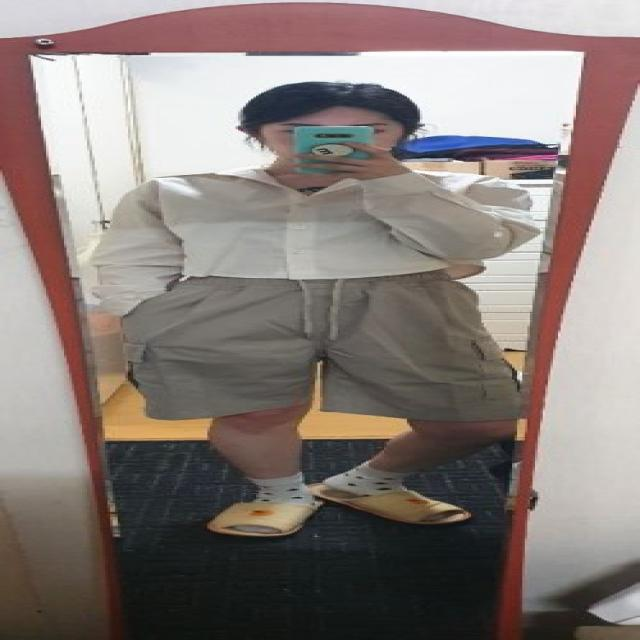shirt: (90, 165, 538, 317)
shortpants: (121, 272, 524, 423)
